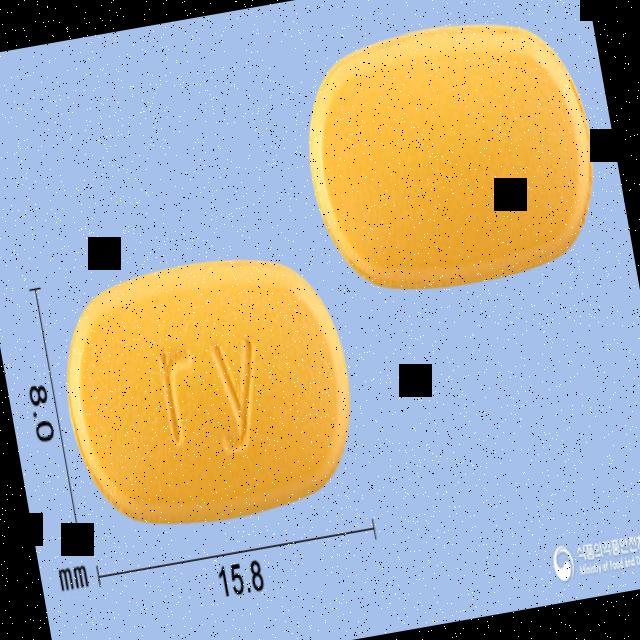Clarithromycin Tab- Reyon: (46, 237, 370, 546)
